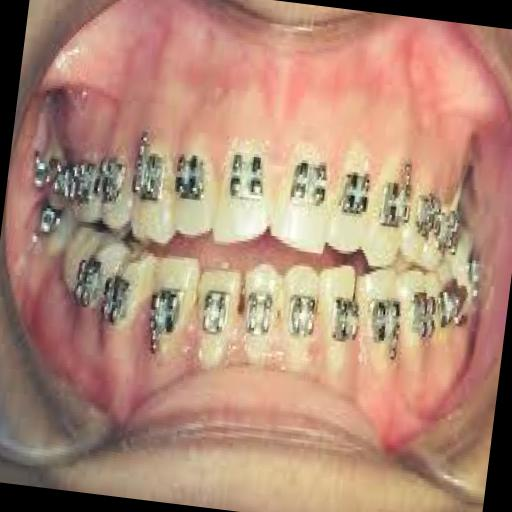correct_brace: (142, 281, 188, 360), (129, 133, 173, 213), (374, 156, 418, 236), (221, 145, 271, 210), (363, 296, 407, 366), (169, 146, 214, 210), (284, 154, 330, 216), (324, 290, 365, 354), (335, 166, 373, 225), (241, 286, 278, 342), (197, 285, 234, 340), (284, 288, 320, 344)
incorrect_brace: (164, 126, 226, 245), (325, 134, 382, 260), (309, 264, 366, 377), (188, 262, 246, 370)
